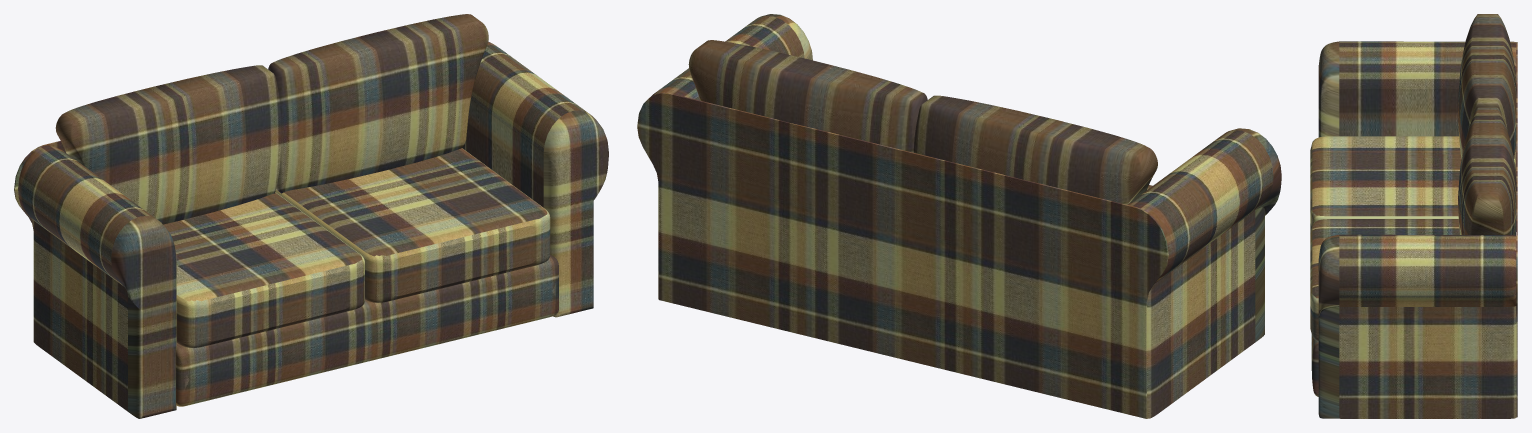
The model's file is sofa4.obj.
The picture shows the model from 3 angles, left to right: view 1: azimuth 30°, elevation 25°; view 2: azimuth 150°, elevation 25°; view 3: azimuth 270°, elevation 25°; orthographic projection. The views are drawn at different scales.
Parts seen in each view (by area): view 1: sofa2_1_1; view 2: sofa2_1_1; view 3: sofa2_1_1.
Boxes of the visible parts, box(x1,y1,x2,y2) form: sofa2_1_1: box(14, 14, 608, 418); sofa2_1_1: box(637, 14, 1281, 418); sofa2_1_1: box(1310, 14, 1517, 418).
Bounding box in the file's own units: 185 × 83.54 × 74.04.
